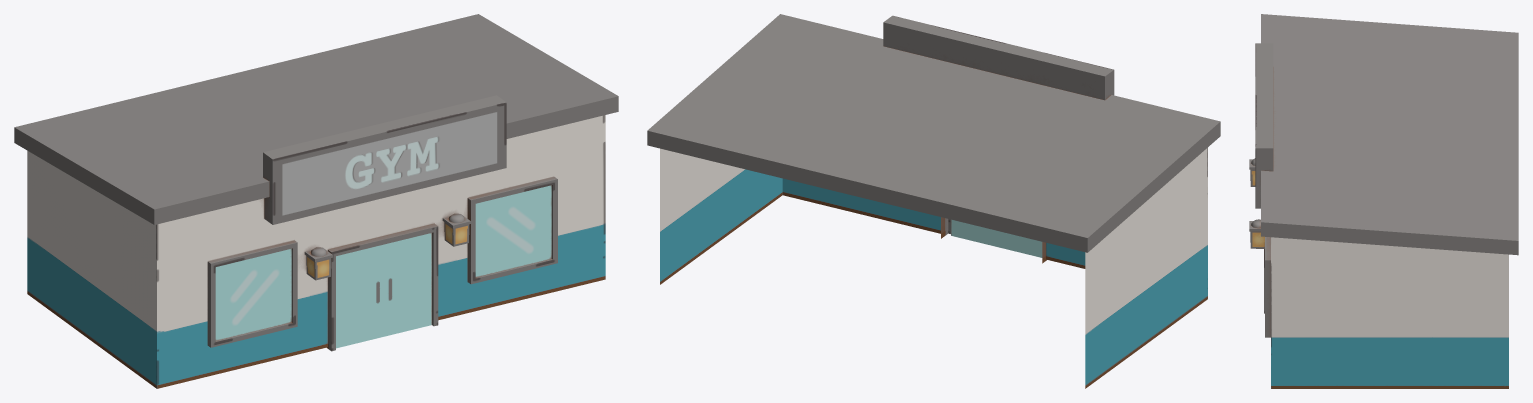
Rendered from BUILD_Outside_GYM.fbx.
The picture shows the model from 3 angles, left to right: view 1: azimuth 30°, elevation 25°; view 2: azimuth 150°, elevation 25°; view 3: azimuth 270°, elevation 25°; orthographic projection. The views are drawn at different scales.
Visible parts, largest first — view 1: Cube.033, Cube.070, Plane.001, Cube.039, Cube.040; view 2: Cube.033, Cube.070, Cube.039; view 3: Cube.033, Cube.070, Plane.001, Cube.040.
Part boxes in pixels (bbox=[...]): Cube.033: bbox=[14, 14, 618, 388]; Cube.070: bbox=[263, 95, 506, 224]; Plane.001: bbox=[207, 177, 557, 347]; Cube.039: bbox=[327, 223, 438, 351]; Cube.040: bbox=[304, 213, 470, 280]; Cube.033: bbox=[647, 14, 1220, 388]; Cube.070: bbox=[883, 15, 1114, 100]; Cube.039: bbox=[941, 217, 1046, 263]; Cube.033: bbox=[1261, 14, 1518, 388]; Cube.070: bbox=[1255, 43, 1273, 208]; Plane.001: bbox=[1265, 237, 1270, 337]; Cube.040: bbox=[1249, 158, 1264, 248].
Bounding box in the file's own units: 1482 × 643 × 811.
Materials: 1 (1 with a texture image).
